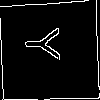Y: (25, 26, 70, 62)
